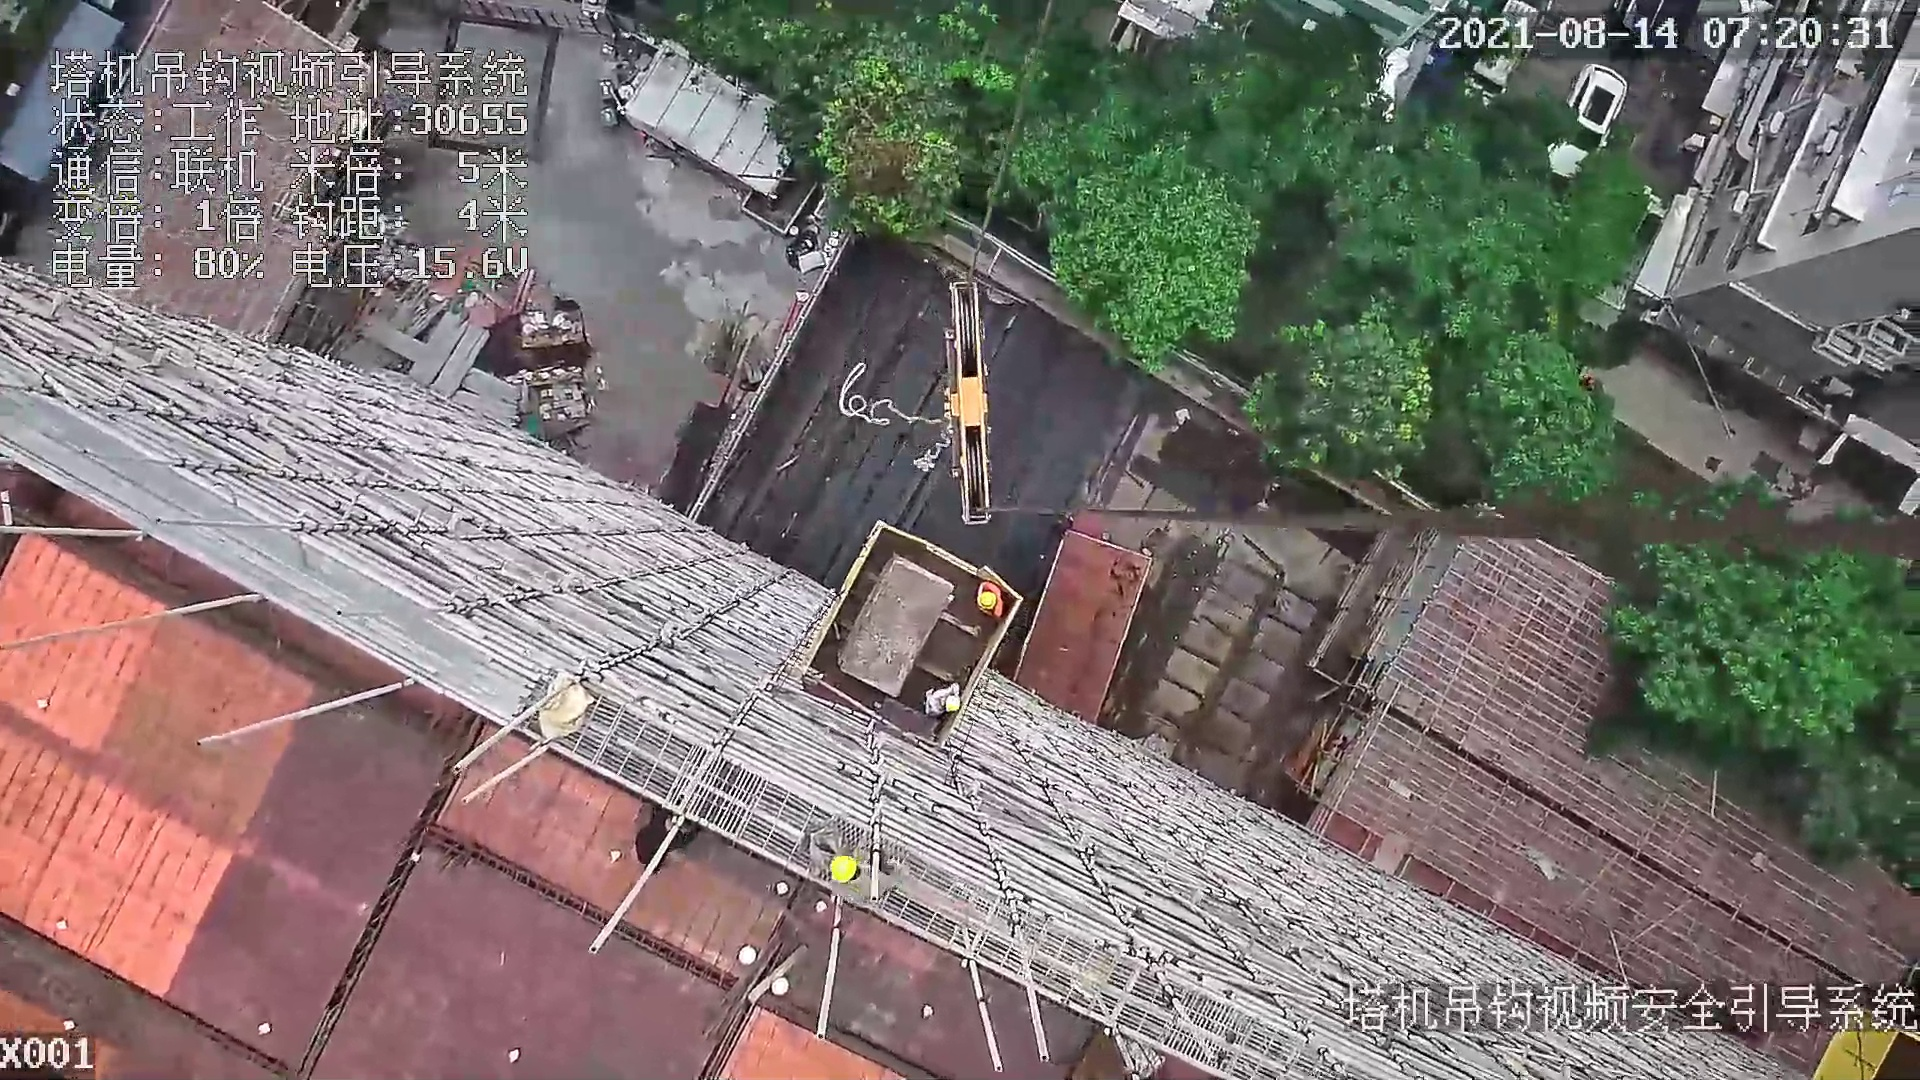helmet: (822, 850, 863, 883), (975, 591, 997, 612), (943, 693, 961, 712)
hook: (931, 281, 999, 523)
person: (808, 815, 864, 892), (969, 577, 1024, 626), (917, 678, 964, 717)
